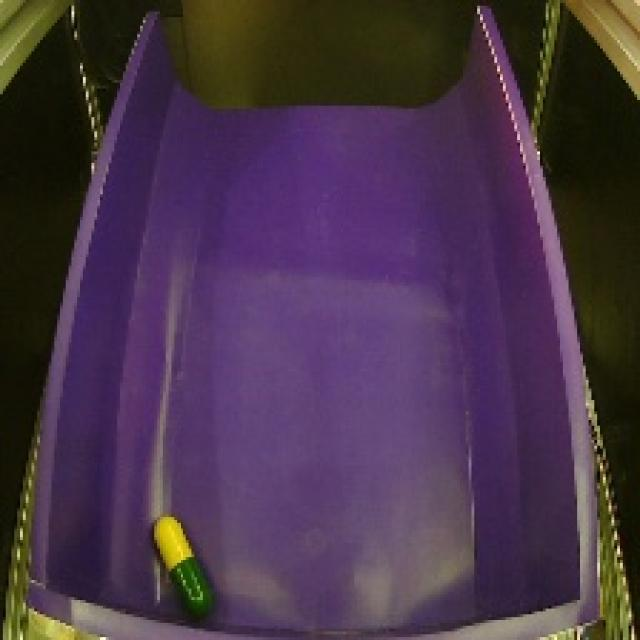small: (142, 513, 222, 624)
